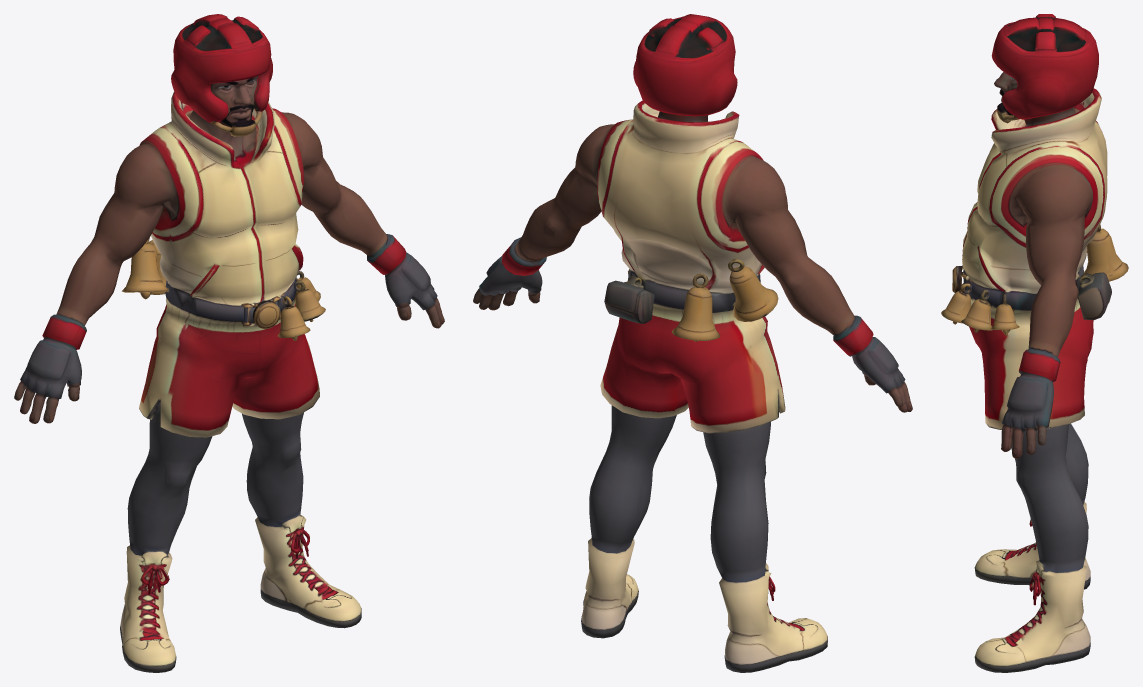
File: choc_v1.glb
The picture shows the model from 3 angles, left to right: view 1: azimuth 30°, elevation 25°; view 2: azimuth 150°, elevation 25°; view 3: azimuth 270°, elevation 25°; orthographic projection. The views are drawn at different scales.
Visible parts, largest first — view 1: choc_v1; view 2: choc_v1; view 3: choc_v1.
Boxes of the visible parts, <box> form: choc_v1: <box>14,14,444,672</box>; choc_v1: <box>473,14,912,672</box>; choc_v1: <box>941,14,1128,672</box>.
Bounding box in the file's own units: 0.73 × 0.9995 × 0.2847.
Materials: 1 (1 with a texture image).
